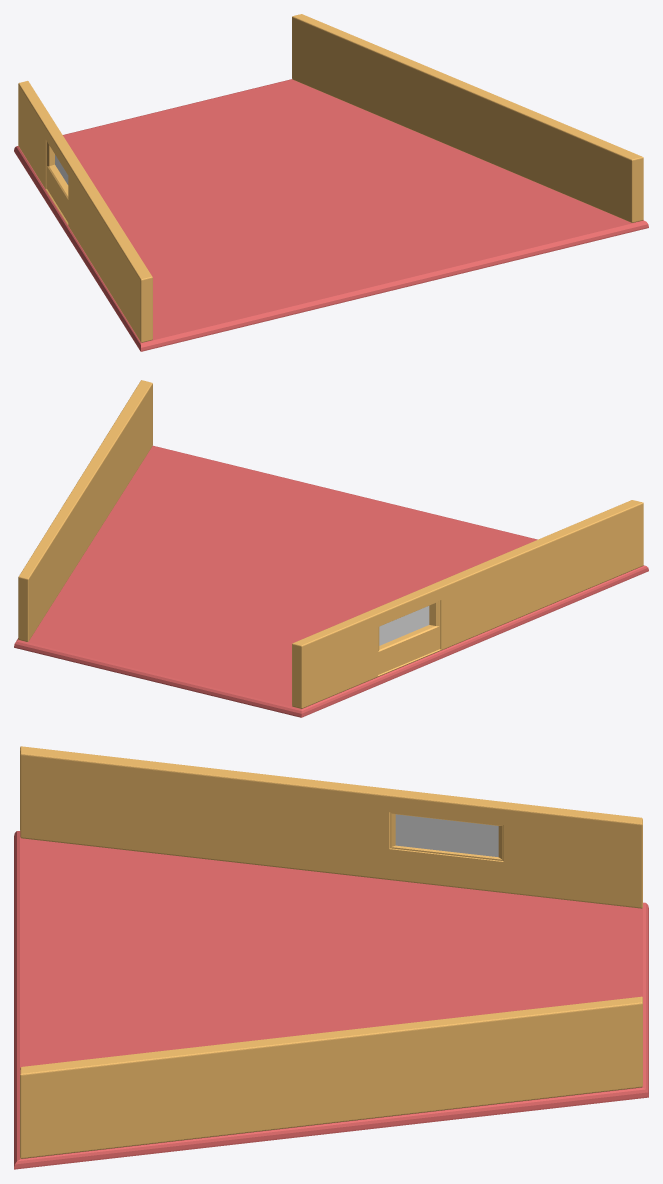
3 renders of one model, top to bottom at view 1: azimuth 30°, elevation 25°; view 2: azimuth 150°, elevation 25°; view 3: azimuth 270°, elevation 25°, orthographic. The views are drawn at different scales.
Parts seen in each view (by area): view 1: Floor, Right Wall, Left Wall; view 2: Floor, Left Wall, Right Wall, Window; view 3: Floor, Right Wall, Left Wall, Window.
Part boxes in pixels (box(x1,y1,x2,y2)): Floor: box(14, 79, 648, 351); Right Wall: box(292, 14, 643, 222); Left Wall: box(18, 81, 152, 342); Floor: box(14, 445, 648, 717); Left Wall: box(292, 500, 643, 708); Right Wall: box(18, 380, 152, 641); Window: box(379, 606, 429, 645); Floor: box(14, 831, 648, 1169); Right Wall: box(20, 996, 642, 1158); Left Wall: box(20, 746, 642, 908); Window: box(395, 814, 498, 857).
Size of the model in its own units: 2511 by 330 by 2030.
